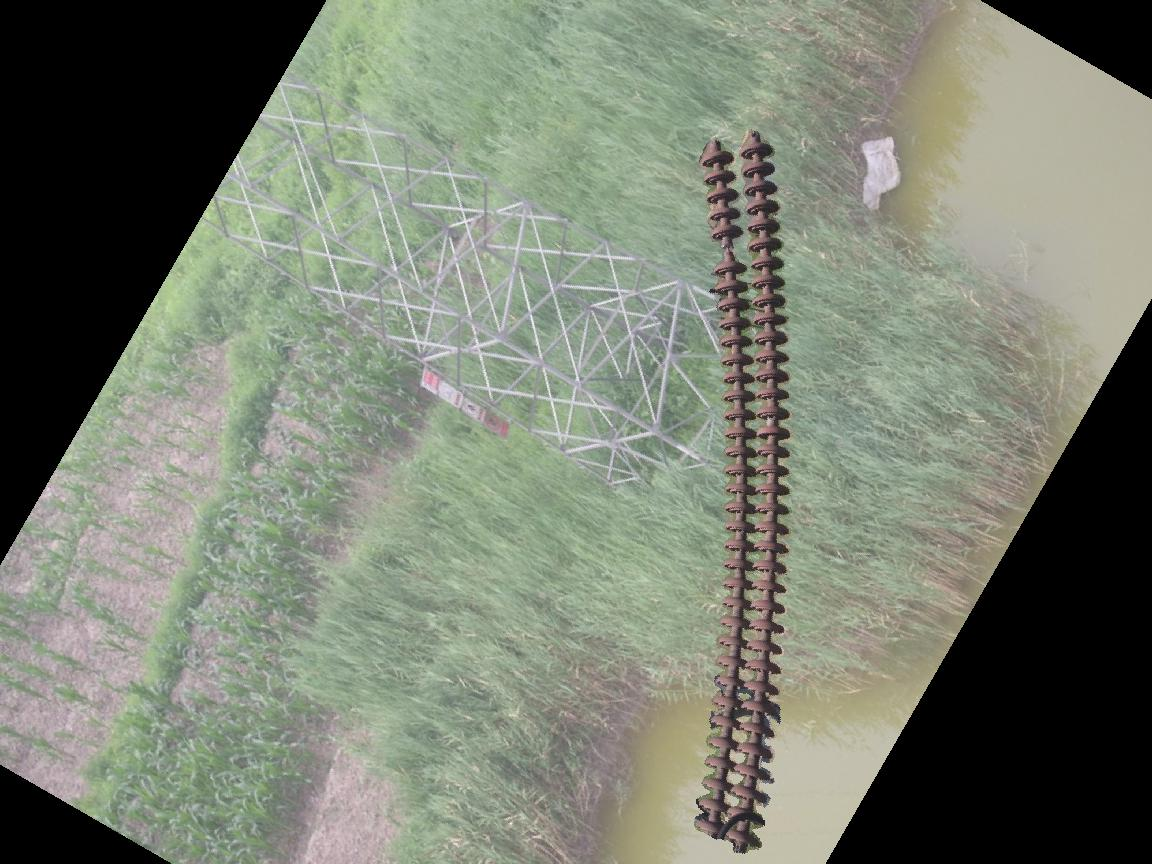insulator: (687, 127, 797, 854)
insulator_stringdrop: (708, 222, 748, 279)
